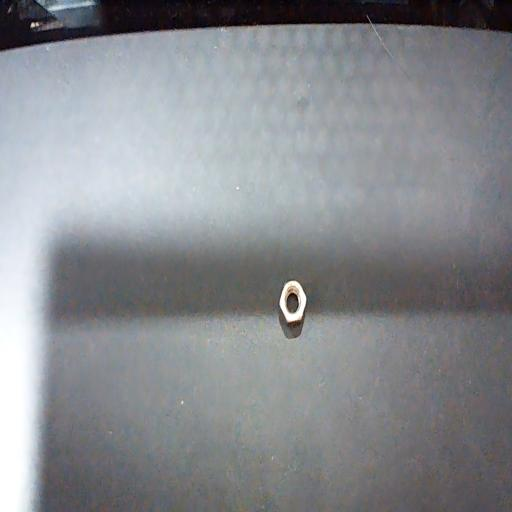nut: (279, 280, 307, 334)
